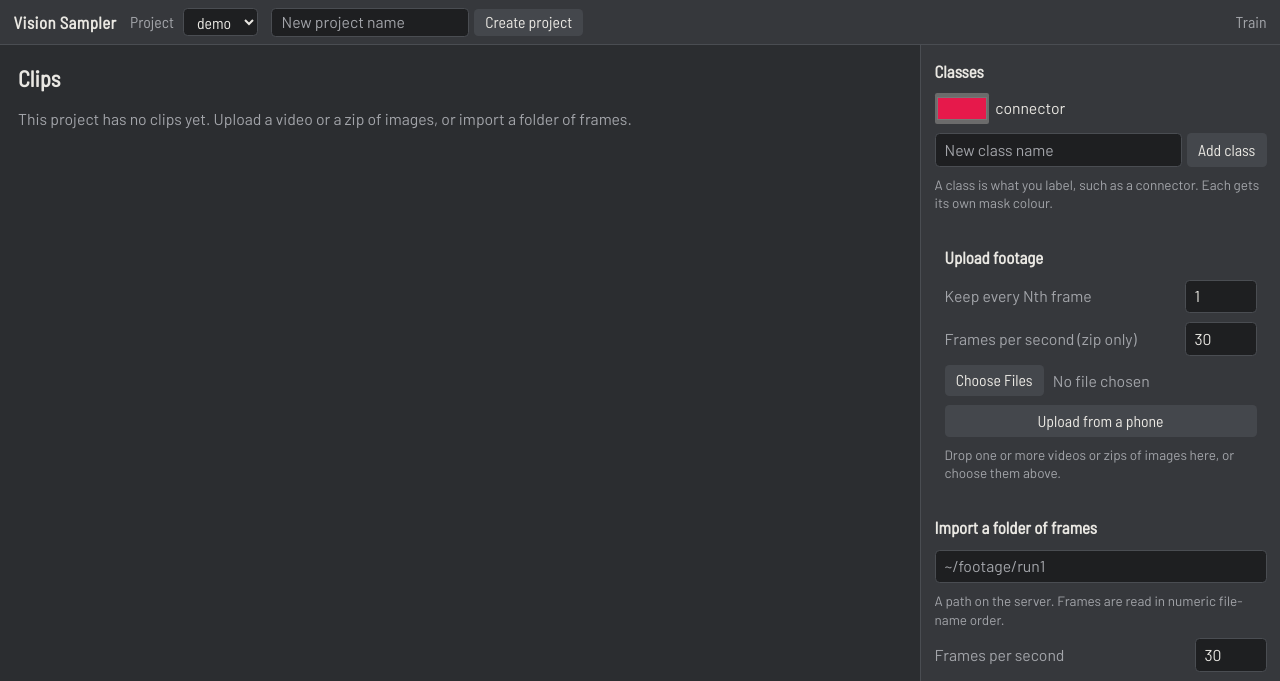
Scenario: Clips page › shows a class colour save error the way the page already shows errors
The image size is (1280, 681).
Check: the list item "connector" is shown, box left=934, top=93, right=1065, bottom=124
Type "#111111" into the colour field named "Colour of connector" at coordinates (962, 109), box left=934, top=93, right=988, bottom=124
Wait 300 ms
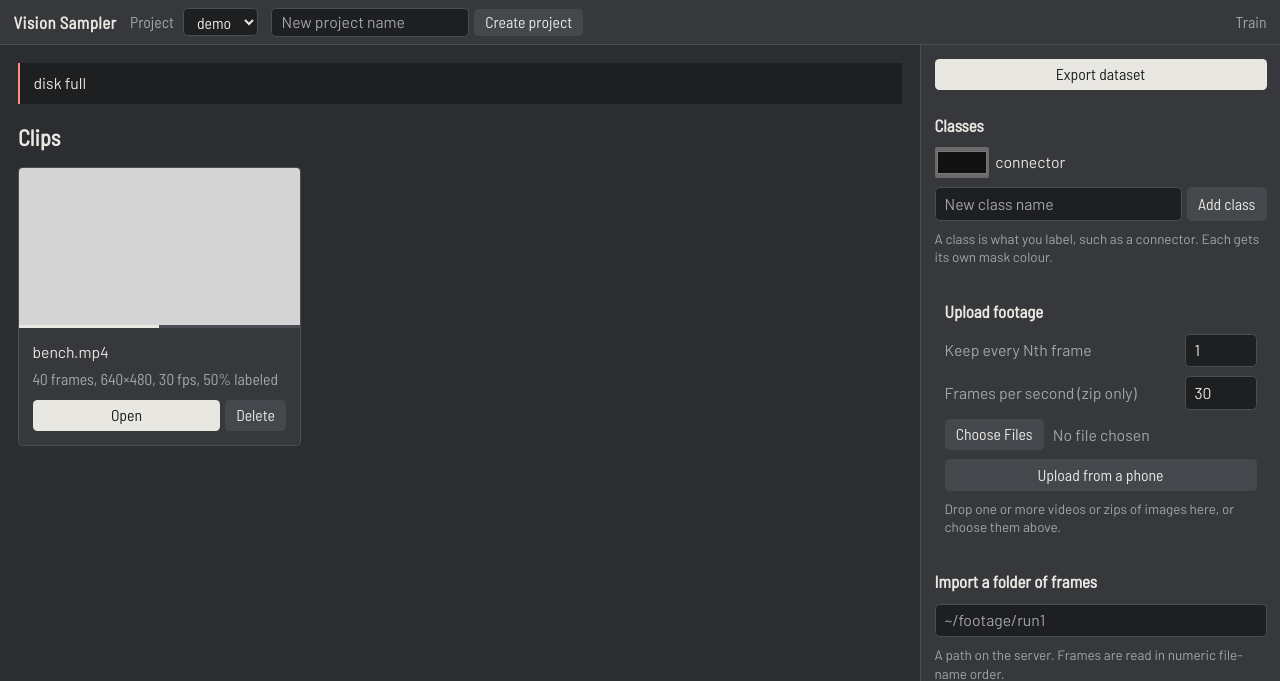
Check: the text "disk full" is shown, box left=18, top=63, right=902, bottom=104
